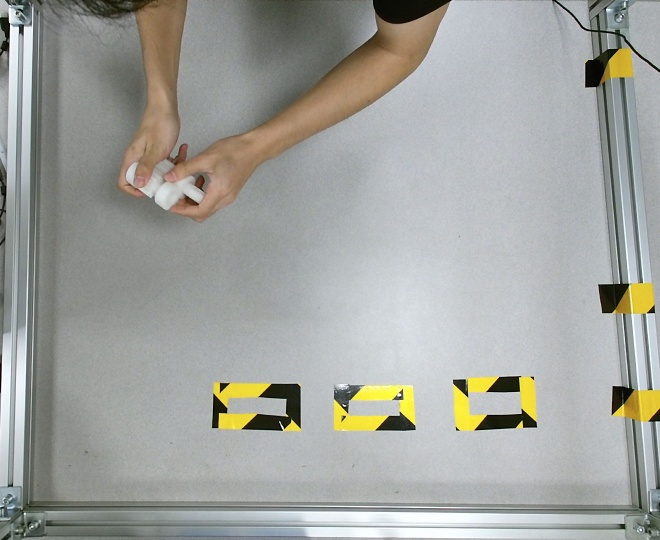stage_3: (124, 153, 209, 208)
